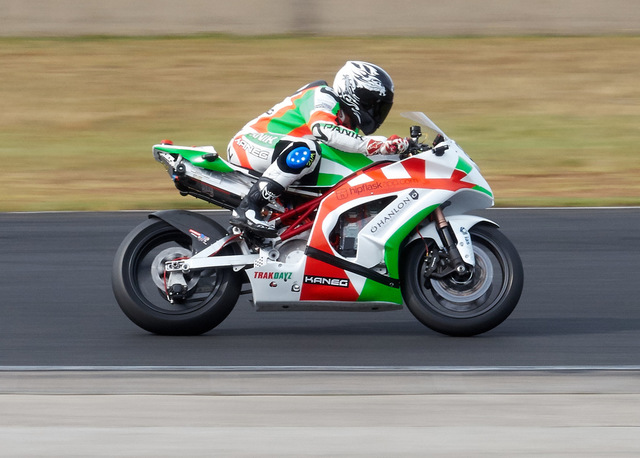helmet: (339, 59, 398, 120)
